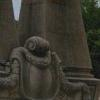Statue: (7, 29, 77, 89)
